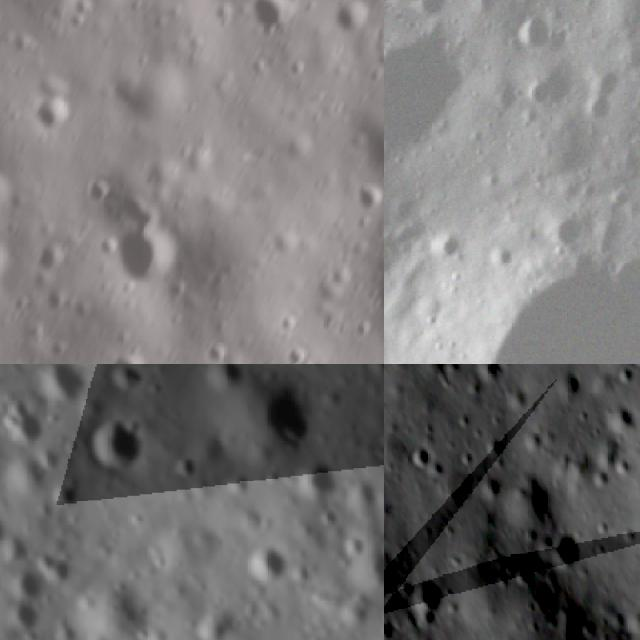crater: (399, 179, 640, 364), (384, 10, 486, 172), (242, 373, 328, 462), (80, 400, 166, 486), (230, 529, 302, 601), (288, 444, 358, 514), (105, 234, 183, 294), (506, 0, 572, 66), (0, 388, 56, 457), (30, 364, 98, 416), (579, 51, 635, 106), (544, 199, 598, 255), (345, 535, 384, 606), (481, 68, 534, 120), (422, 218, 473, 268), (410, 570, 444, 640), (201, 364, 259, 405), (7, 592, 56, 640), (112, 192, 167, 234), (102, 364, 156, 406), (241, 0, 304, 35), (517, 66, 563, 112), (574, 86, 620, 131), (323, 0, 374, 38), (28, 98, 74, 136), (349, 180, 384, 217), (265, 228, 302, 260), (326, 262, 360, 296), (411, 0, 456, 25), (548, 532, 576, 572), (398, 441, 434, 472), (35, 242, 66, 276), (7, 30, 40, 61), (459, 0, 520, 15), (79, 175, 106, 208), (276, 342, 313, 364), (209, 0, 234, 32), (0, 168, 16, 217), (272, 311, 300, 339), (40, 289, 67, 316), (348, 317, 377, 342), (199, 340, 228, 364), (368, 149, 384, 190), (242, 626, 287, 640), (0, 244, 14, 283), (72, 0, 98, 20), (103, 353, 146, 364), (64, 15, 86, 36), (617, 453, 630, 488), (617, 401, 630, 434), (376, 190, 384, 219)
